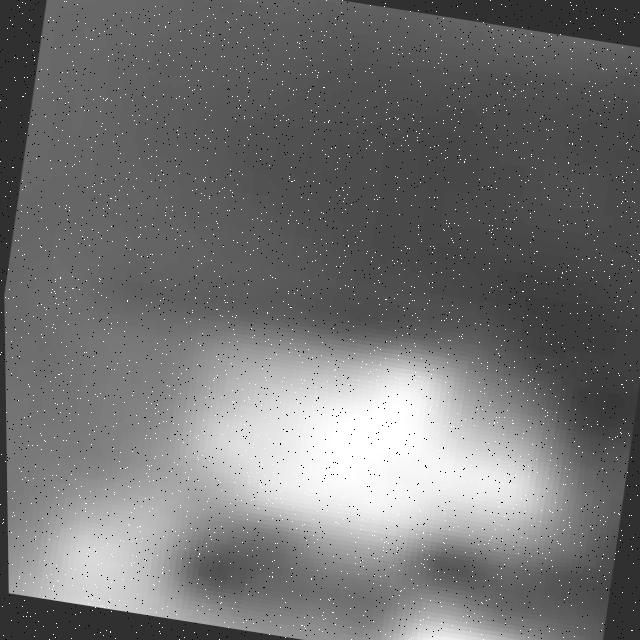person: (86, 324, 621, 603), (31, 554, 595, 640)
